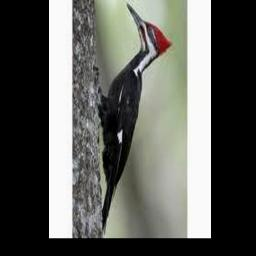Woodpecker: (98, 3, 173, 233)
